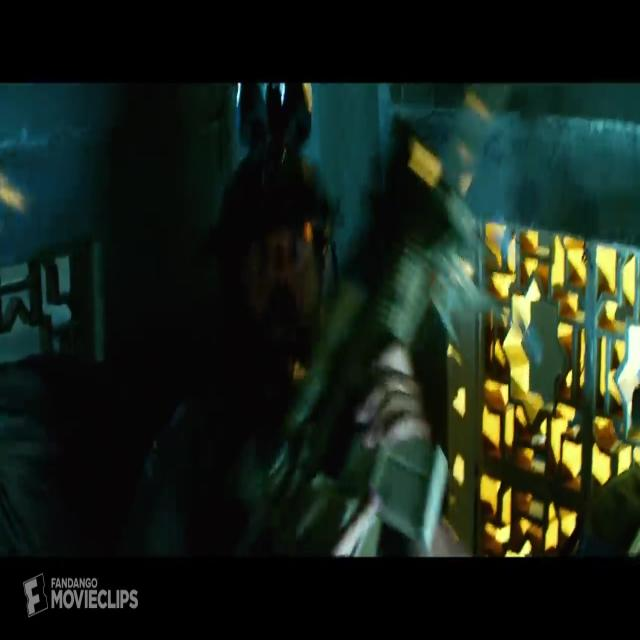Weapon: (212, 200, 542, 608)
